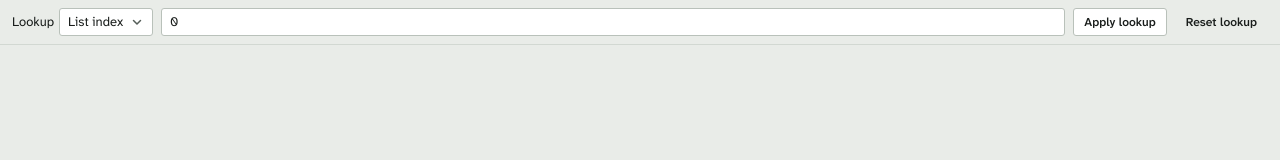
Scenario: F1 collection lookup › rejects fractional list indices
This screenshot has width=1280, height=160.
In the field named "List index": (613, 22) [161,8,1065,36], type "1.5"
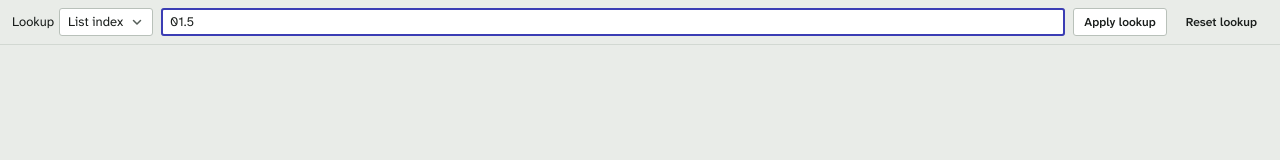
Click the button "Apply lookup": (1120, 22) [1073,8,1167,36]
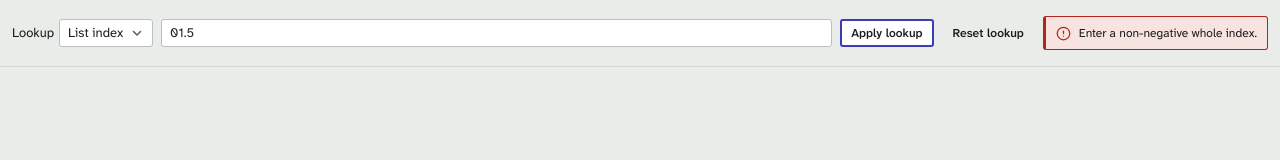
Expected: the message shows "whole index", [1079,25,1257,41]
